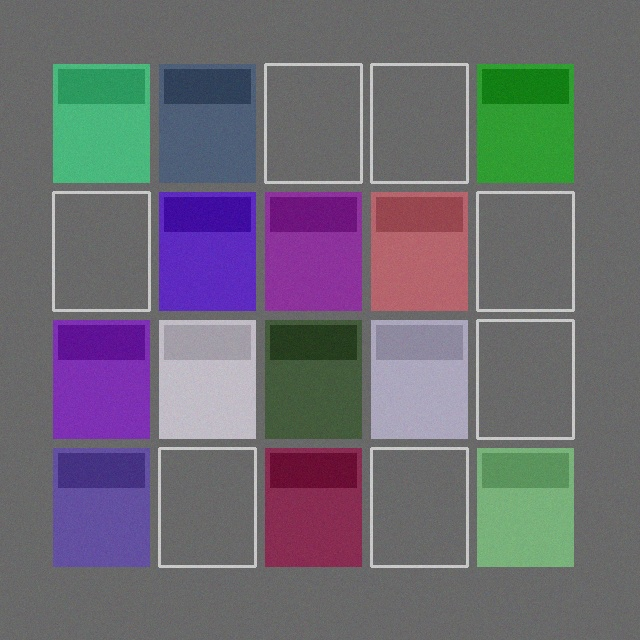space-empty: (265, 64, 361, 182), (371, 64, 467, 182), (53, 192, 149, 310), (477, 192, 573, 310), (477, 320, 573, 438), (159, 448, 255, 566), (371, 448, 467, 566)
space-occupied: (53, 64, 149, 182), (159, 64, 255, 182), (477, 64, 573, 182), (159, 192, 255, 310), (265, 192, 361, 310), (371, 192, 467, 310), (53, 320, 149, 438), (159, 320, 255, 438), (265, 320, 361, 438), (371, 320, 467, 438), (53, 448, 149, 566), (265, 448, 361, 566), (477, 448, 573, 566)
